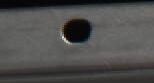holes: (60, 16, 94, 44)
